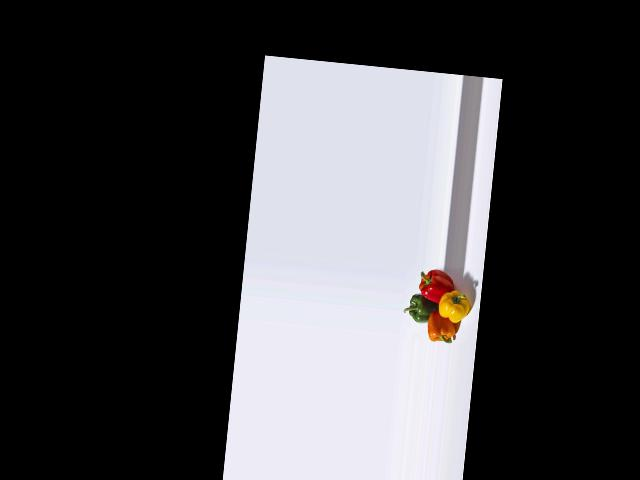bell_pepper: (414, 266, 456, 304)
